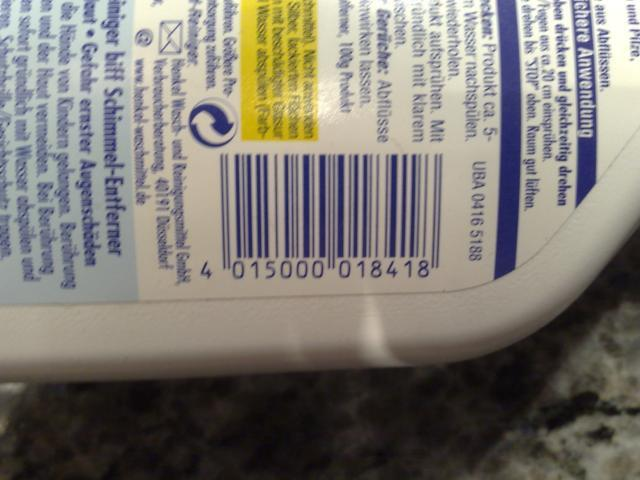Barcode: (194, 147, 456, 287)
